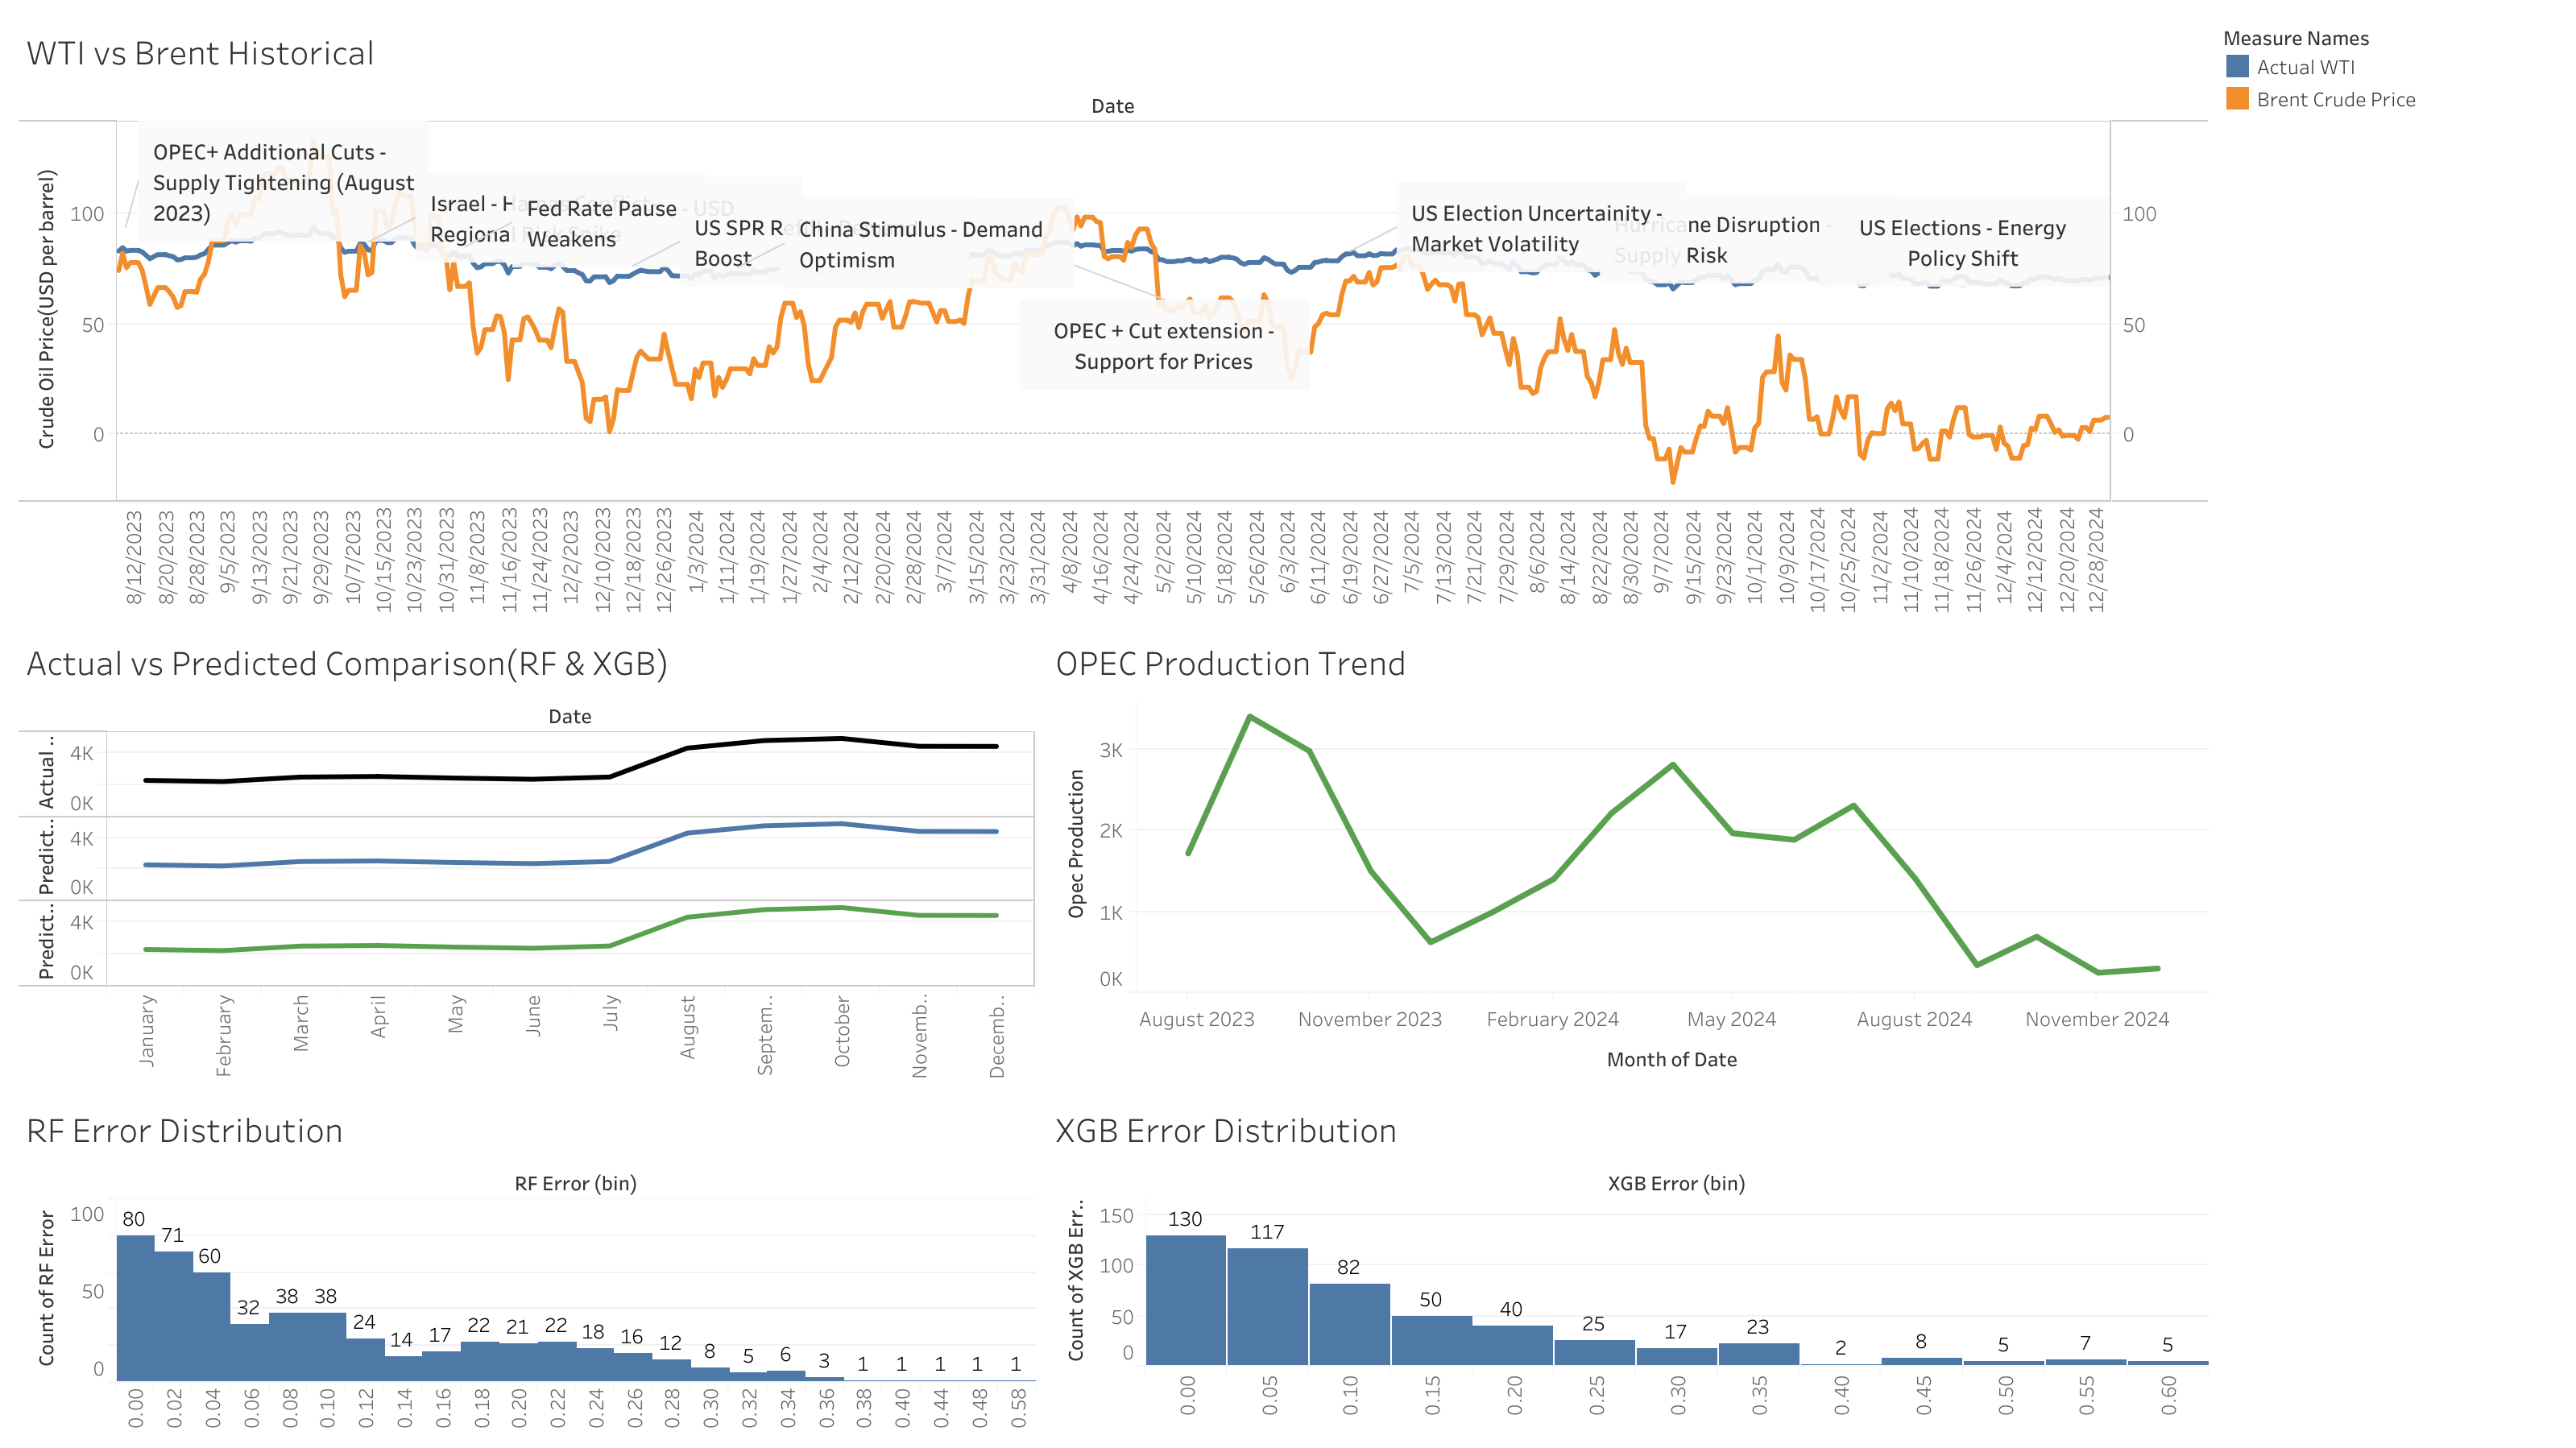

What the dashboard file says about the page in this screenshot:
{"tool":"tableau","page":{"name":"Dashboard 1","canvas":[1654,1169],"ordinal":0},"visuals":[{"type":"worksheet","title":"WTI vs Brent Historical","mark":"Automatic","rows":["Actual_WTI","brent_crude_price"],"cols":["Date"],"box":[8,8,1421,494.3]},{"type":"legend","title":"WTI vs Brent Historical","param":"[federated.0n7b8fv19ytlq91ctyp2o1s34aj9].[:Measure Names]","box":[1429,8,217,66]},{"type":"worksheet","title":"Actual vs Predicted Comparison(RF & XGB)","mark":"Automatic","rows":["Actual_WTI","Predicted_WTI_RF","Predicted_WTI_XGB"],"cols":["Date"],"box":[8,502.3,664.7,378.3]},{"type":"worksheet","title":"OPEC Production Trend","mark":"Line","rows":["opec_production"],"cols":["Date"],"box":[672.7,502.3,756.2,378.3]},{"type":"worksheet","title":"RF Error Distribution","mark":"Bar","rows":["RF_Error"],"cols":["RF Error (bin)"],"box":[8,880.6,664.2,280.4]},{"type":"worksheet","title":"XGB Error Distribution","mark":"Bar","rows":["XGB_Error"],"cols":["XGB Error (bin)"],"box":[672.3,880.6,756.7,280.4]}]}

Visuals, with their boxes on the page's 1654x1169 design canvas (x1, y1, x2, y2). These are canvas units, not pixel positions in the 2576x1448 screenshot, which may show the page scaled, cropped or inside an application window:
"WTI vs Brent Historical" worksheet: Rect(8, 8, 1429, 502)
"WTI vs Brent Historical" legend: Rect(1429, 8, 1646, 74)
"Actual vs Predicted Comparison(RF & XGB)" worksheet: Rect(8, 502, 673, 881)
"OPEC Production Trend" worksheet (Line marks): Rect(673, 502, 1429, 881)
"RF Error Distribution" worksheet (Bar marks): Rect(8, 881, 672, 1161)
"XGB Error Distribution" worksheet (Bar marks): Rect(672, 881, 1429, 1161)
